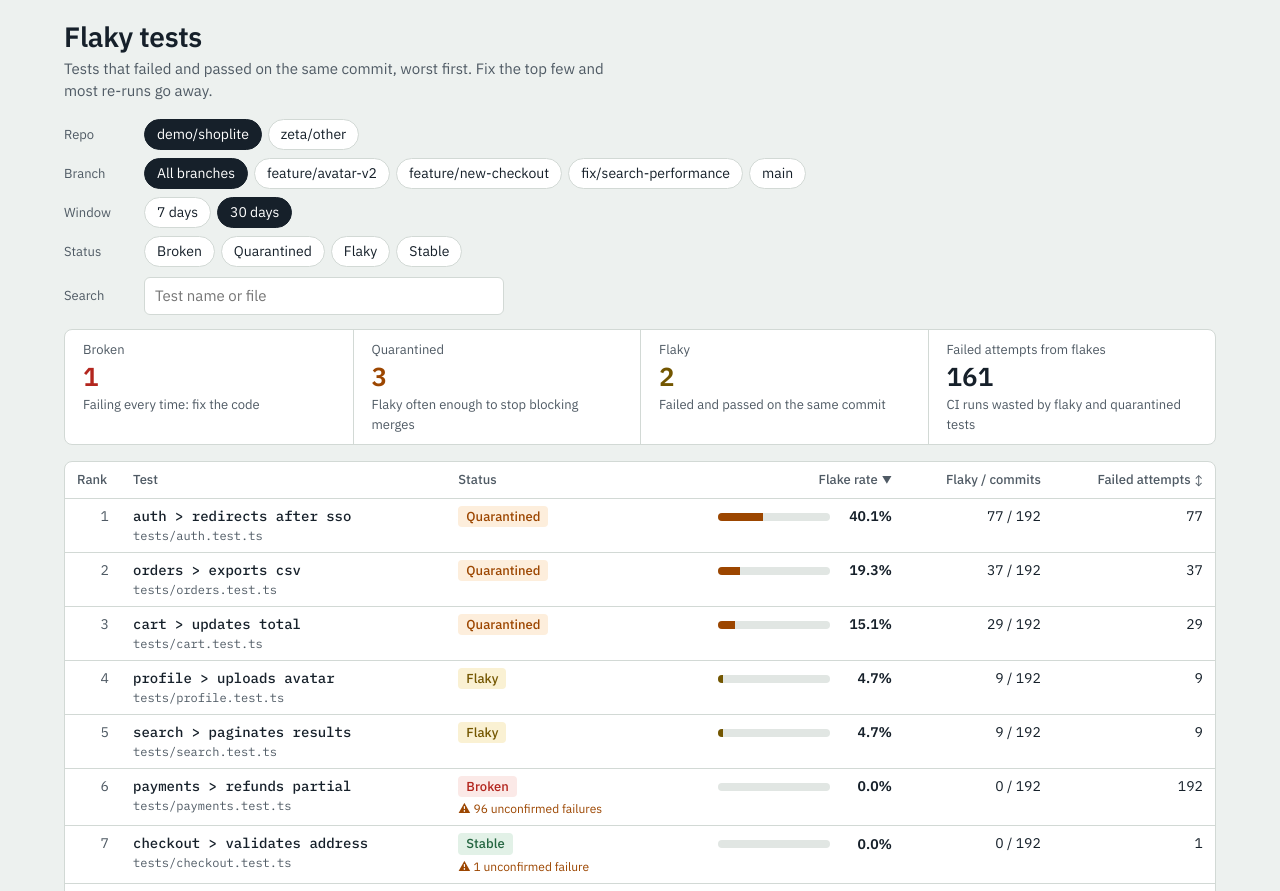
Test: filter chips › REQ-UI-02: status chips can be combined
Click the button "Flaky" at (361, 251), box left=331, top=236, right=390, bottom=267
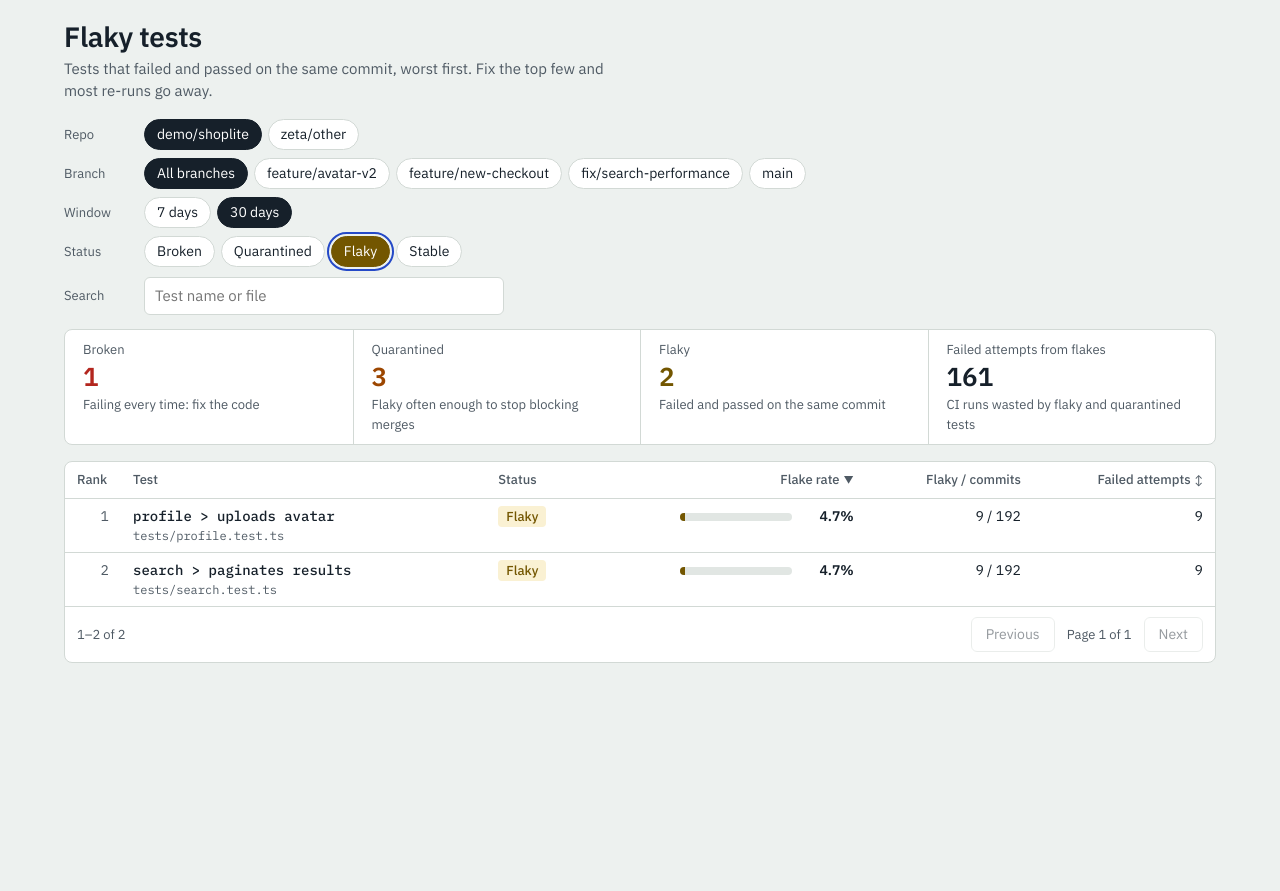
Click the button "Broken" at (179, 251), box left=144, top=236, right=215, bottom=267
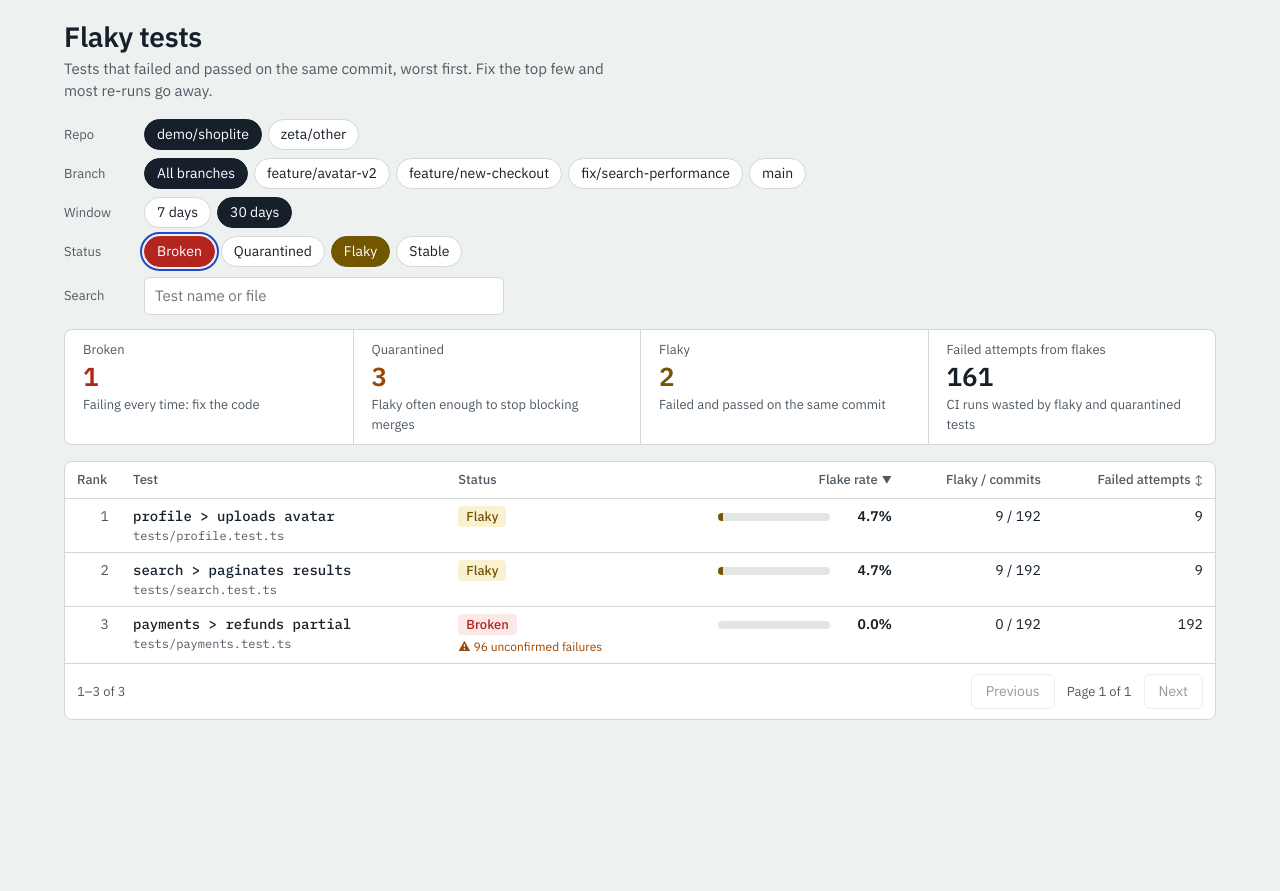
Expected: the number of rows with test id "test-row" is 3, left=65, top=498, right=1215, bottom=552; left=65, top=552, right=1215, bottom=606; left=65, top=606, right=1215, bottom=664
